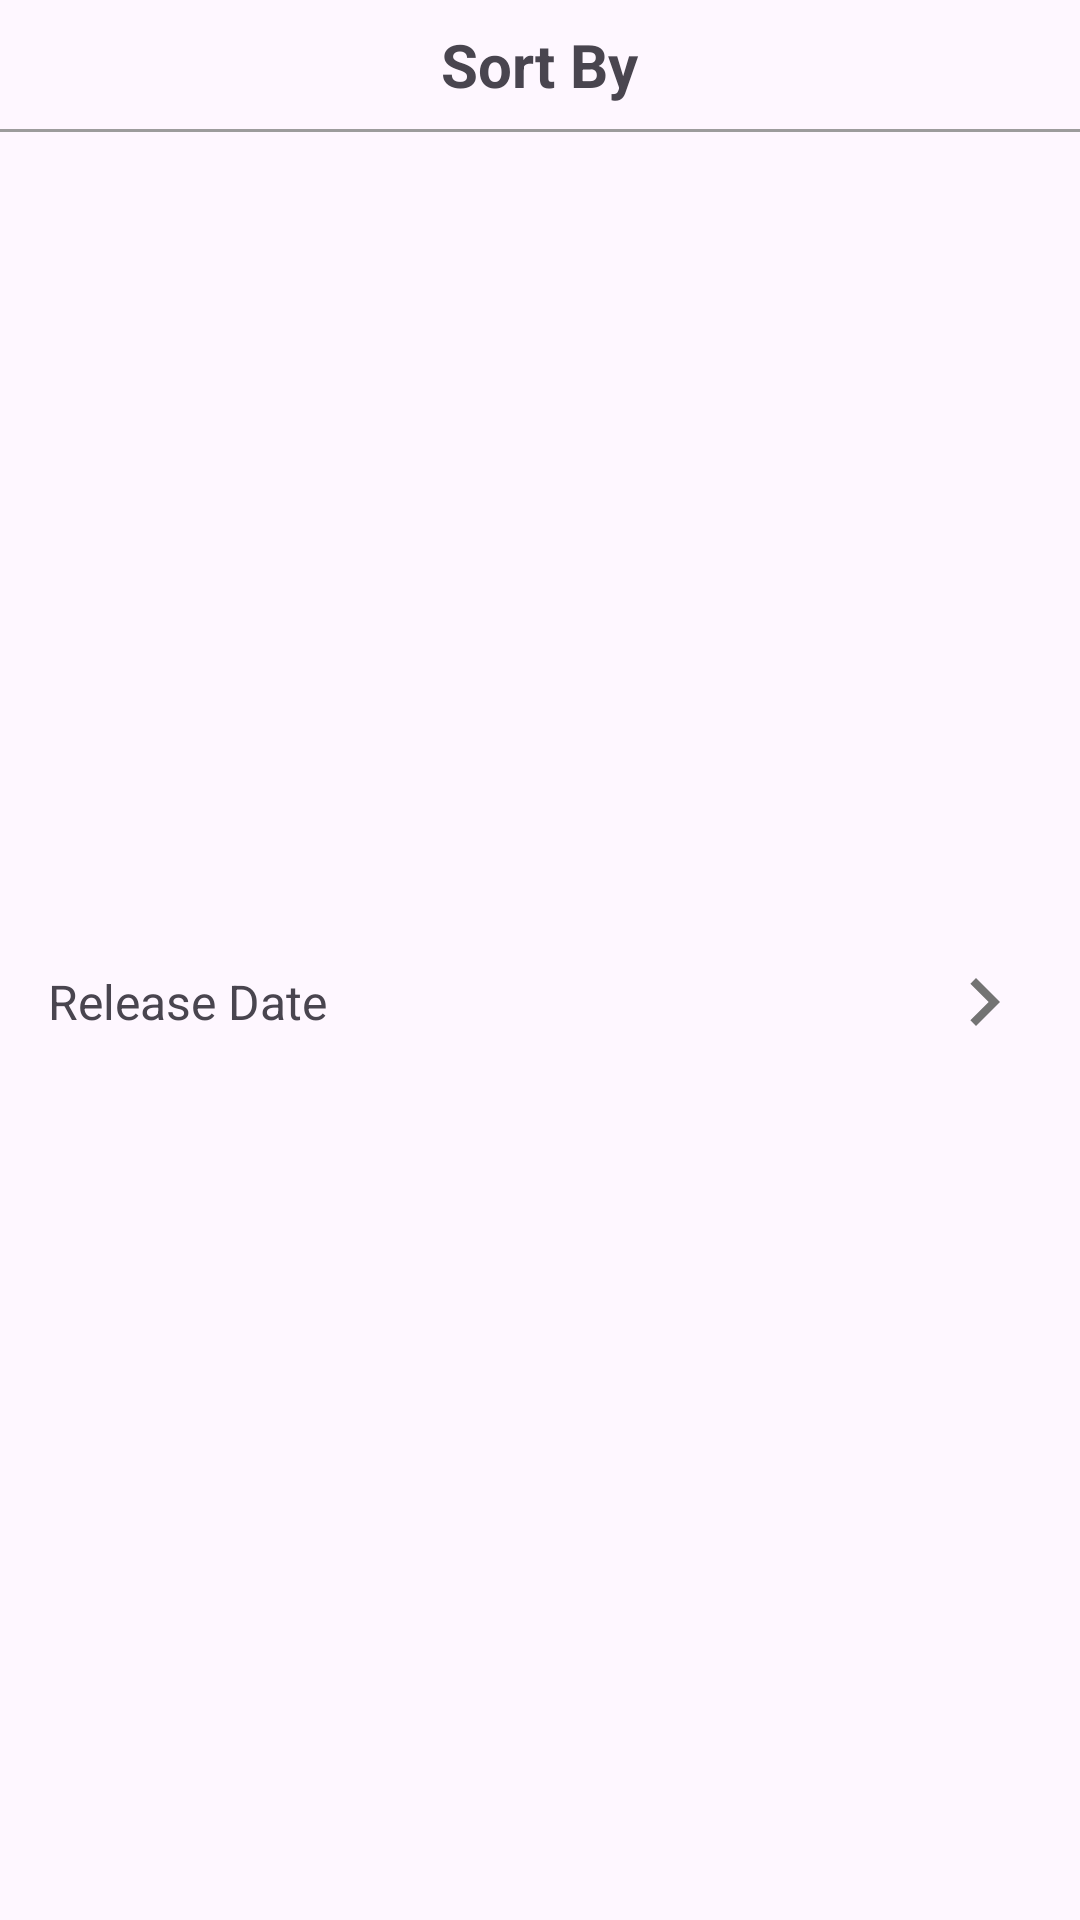

Named icons in this screenshot (1080*1920) and their centers, point (x, y):
arrow right: point (985, 1002)
